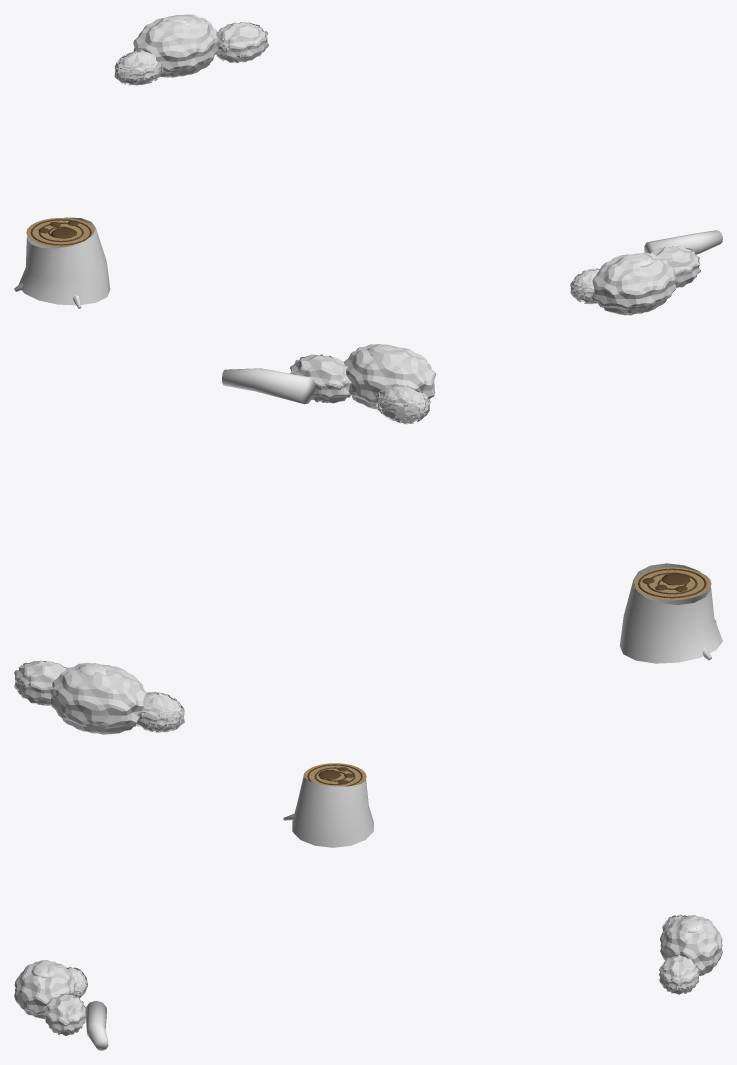
File: SM_DF_CampMarker_Open.fbx
The picture shows the model from 3 angles, top to bottom: view 1: azimuth 30°, elevation 25°; view 2: azimuth 150°, elevation 25°; view 3: azimuth 270°, elevation 25°; orthographic projection. The views are drawn at different scales.
Parts seen in each view (by area): view 1: SM_DF_CampMarker_Open; view 2: SM_DF_CampMarker_Open; view 3: SM_DF_CampMarker_Open.
Boxes of the visible parts, bbox=[...] form: SM_DF_CampMarker_Open: bbox=[14, 14, 722, 315]; SM_DF_CampMarker_Open: bbox=[14, 344, 722, 734]; SM_DF_CampMarker_Open: bbox=[14, 763, 722, 1050].
Bounding box in the file's own units: 583 × 695 × 64.8.
